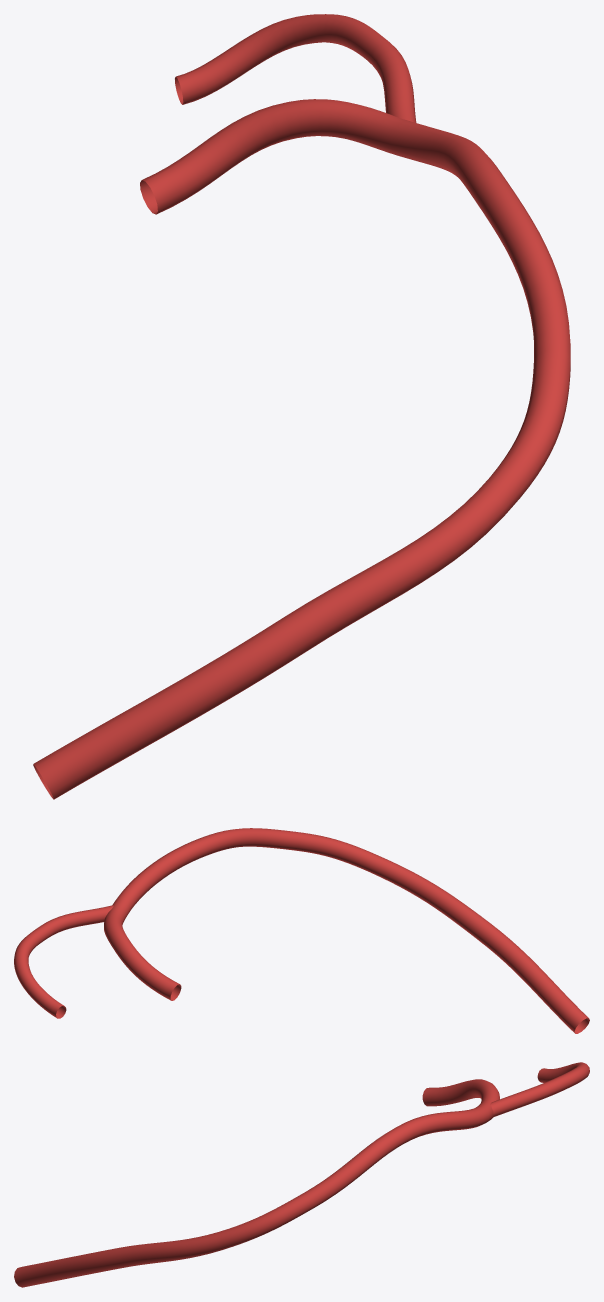
The picture shows the model from 3 angles, top to bottom: view 1: azimuth 30°, elevation 25°; view 2: azimuth 150°, elevation 25°; view 3: azimuth 330°, elevation 25°; orthographic projection. The views are drawn at different scales.
Parts seen in each view (by area): view 1: 左结肠动脉降支; view 2: 左结肠动脉降支; view 3: 左结肠动脉降支.
Part boxes in pixels (<box>): 左结肠动脉降支: <box>33,14,570,799</box>; 左结肠动脉降支: <box>14,828,589,1033</box>; 左结肠动脉降支: <box>14,1062,589,1287</box>.
Size of the model in its own units: 0.0594 by 0.0277 by 0.071.
